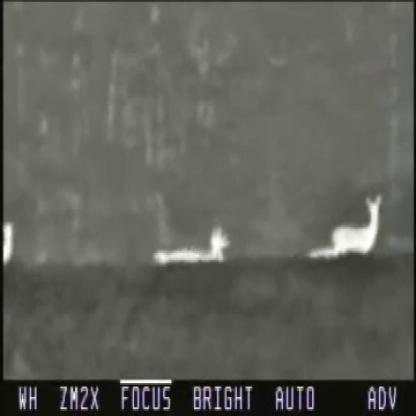rehkitze: (334, 191, 382, 263), (151, 229, 229, 263), (1, 217, 16, 269)
